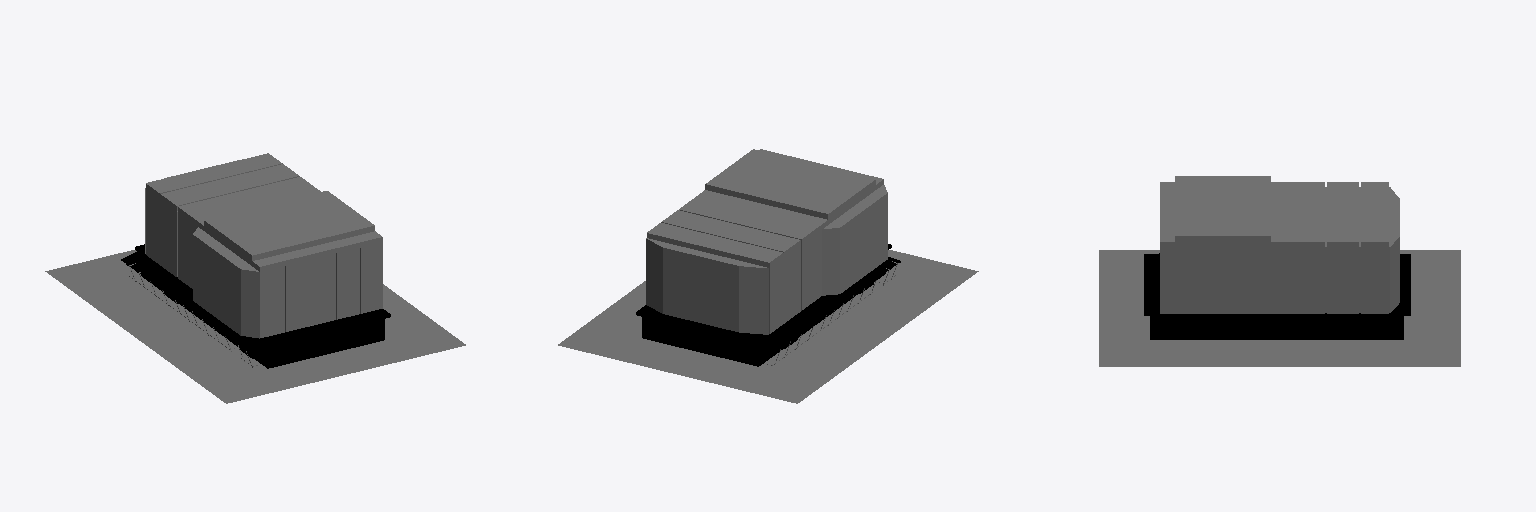
Rendered from LassondeBuilding.obj.
3 renders of one model, left to right at view 1: azimuth 30°, elevation 25°; view 2: azimuth 150°, elevation 25°; view 3: azimuth 270°, elevation 25°, orthographic.
Parts seen in each view (by area): view 1: topOfBuilding_GEO, ground_GEO, baseLassonde_GEO, outsideRoof2_GEO, outsideRoof_GEO, pCube1; view 2: topOfBuilding_GEO, ground_GEO, baseLassonde_GEO, outsideRoof2_GEO, outsideRoof_GEO, pCube1; view 3: topOfBuilding_GEO, ground_GEO, baseLassonde_GEO.
Part boxes in pixels (x1,y1,x2,y2): topOfBuilding_GEO: (145,153,382,338); ground_GEO: (45,250,465,403); baseLassonde_GEO: (135,244,390,368); outsideRoof2_GEO: (121,252,192,304); outsideRoof_GEO: (184,301,263,350); pCube1: (129,274,234,349); topOfBuilding_GEO: (646,149,887,334); ground_GEO: (558,250,978,403); baseLassonde_GEO: (636,244,891,366); outsideRoof2_GEO: (756,301,837,354); outsideRoof_GEO: (820,257,900,306); pCube1: (767,290,872,365); topOfBuilding_GEO: (1160,176,1399,313); ground_GEO: (1099,250,1460,366); baseLassonde_GEO: (1144,254,1410,339).
Bounding box in the file's own units: 670 × 278 × 873.